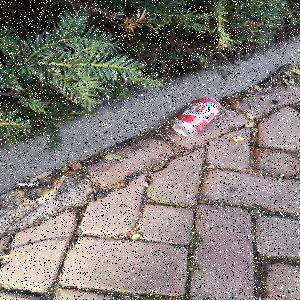Can: (169, 96, 227, 140)
